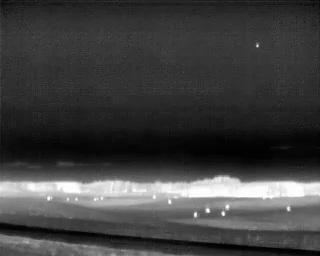BIRD: (253, 40, 262, 51)
